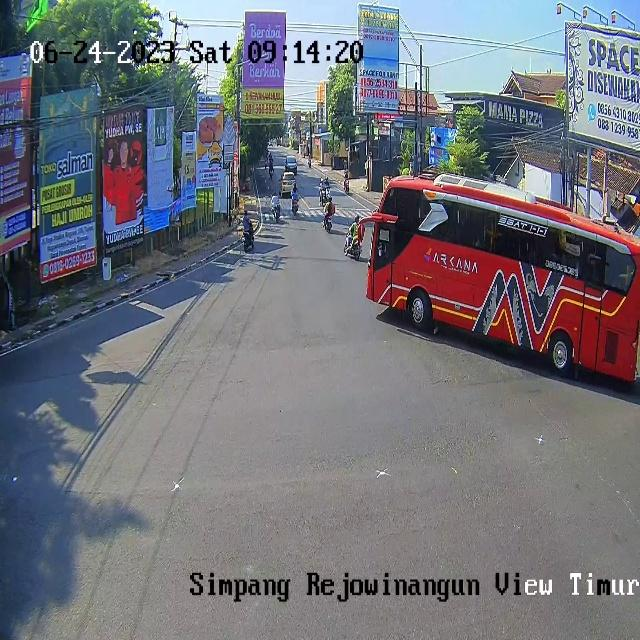bus: (343, 228, 362, 261), (242, 225, 254, 252), (272, 206, 280, 223), (292, 198, 299, 216), (325, 215, 332, 232), (343, 178, 349, 194), (320, 187, 324, 204), (326, 186, 330, 196)
car: (365, 172, 640, 383)
motorcycle: (281, 172, 296, 193), (286, 156, 298, 173)
